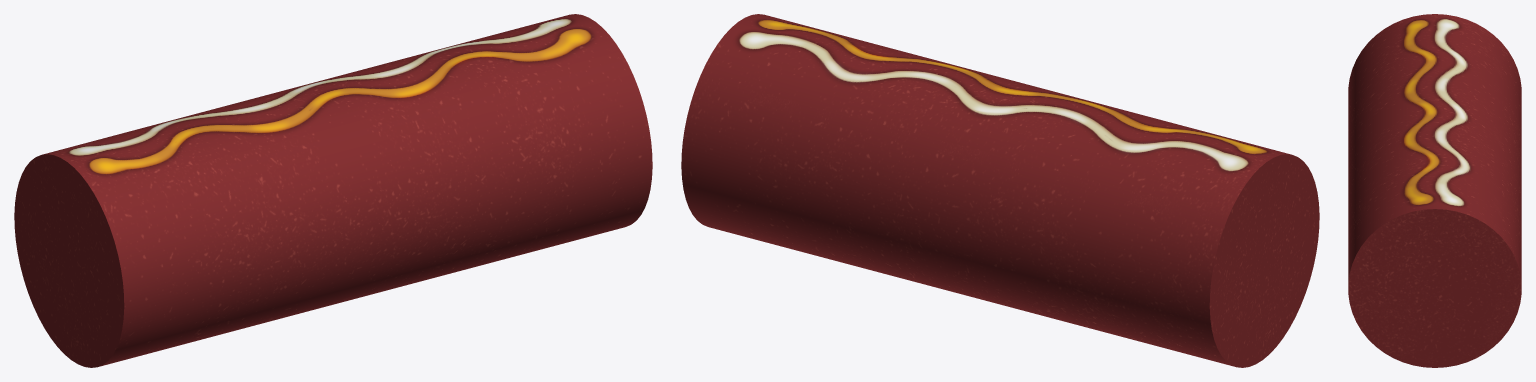
File: сосиска.FBX
The picture shows the model from 3 angles, left to right: view 1: azimuth 30°, elevation 25°; view 2: azimuth 150°, elevation 25°; view 3: azimuth 270°, elevation 25°; orthographic projection. The views are drawn at different scales.
Parts seen in each view (by area): view 1: Cylinder001; view 2: Cylinder001; view 3: Cylinder001.
Part boxes in pixels (x1,y1,x2,y2): Cylinder001: (14, 14, 652, 367); Cylinder001: (681, 14, 1319, 367); Cylinder001: (1348, 14, 1521, 367).
Bounding box in the file's own units: 50.36 × 19.02 × 17.96.
Materials: 1 (1 with a texture image).
